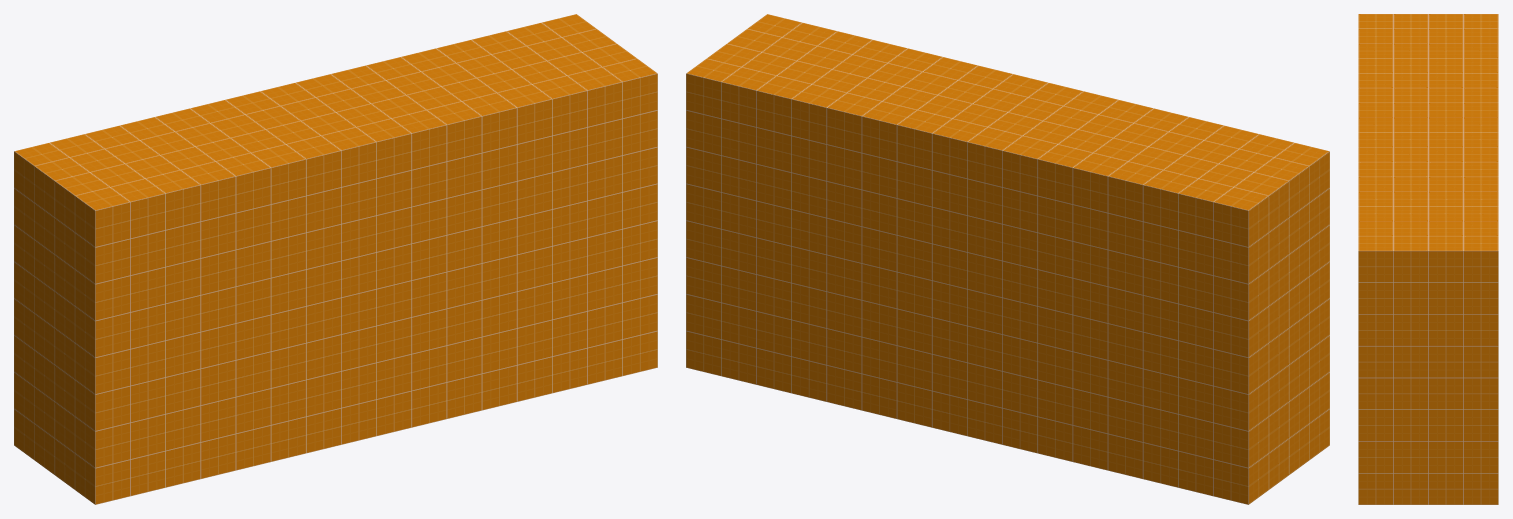
File: Block_16x4x8.obj
3 renders of one model, left to right at view 1: azimuth 30°, elevation 25°; view 2: azimuth 150°, elevation 25°; view 3: azimuth 270°, elevation 25°, orthographic. The views are drawn at different scales.
Parts seen in each view (by area): view 1: Block_16x4x8_Cube.263; view 2: Block_16x4x8_Cube.263; view 3: Block_16x4x8_Cube.263.
Boxes of the visible parts, <box> form: Block_16x4x8_Cube.263: <box>14,14,657,504</box>; Block_16x4x8_Cube.263: <box>686,14,1329,504</box>; Block_16x4x8_Cube.263: <box>1358,14,1498,504</box>.
Bounding box in the file's own units: 16 × 8 × 4.
Materials: 1 (1 with a texture image).
